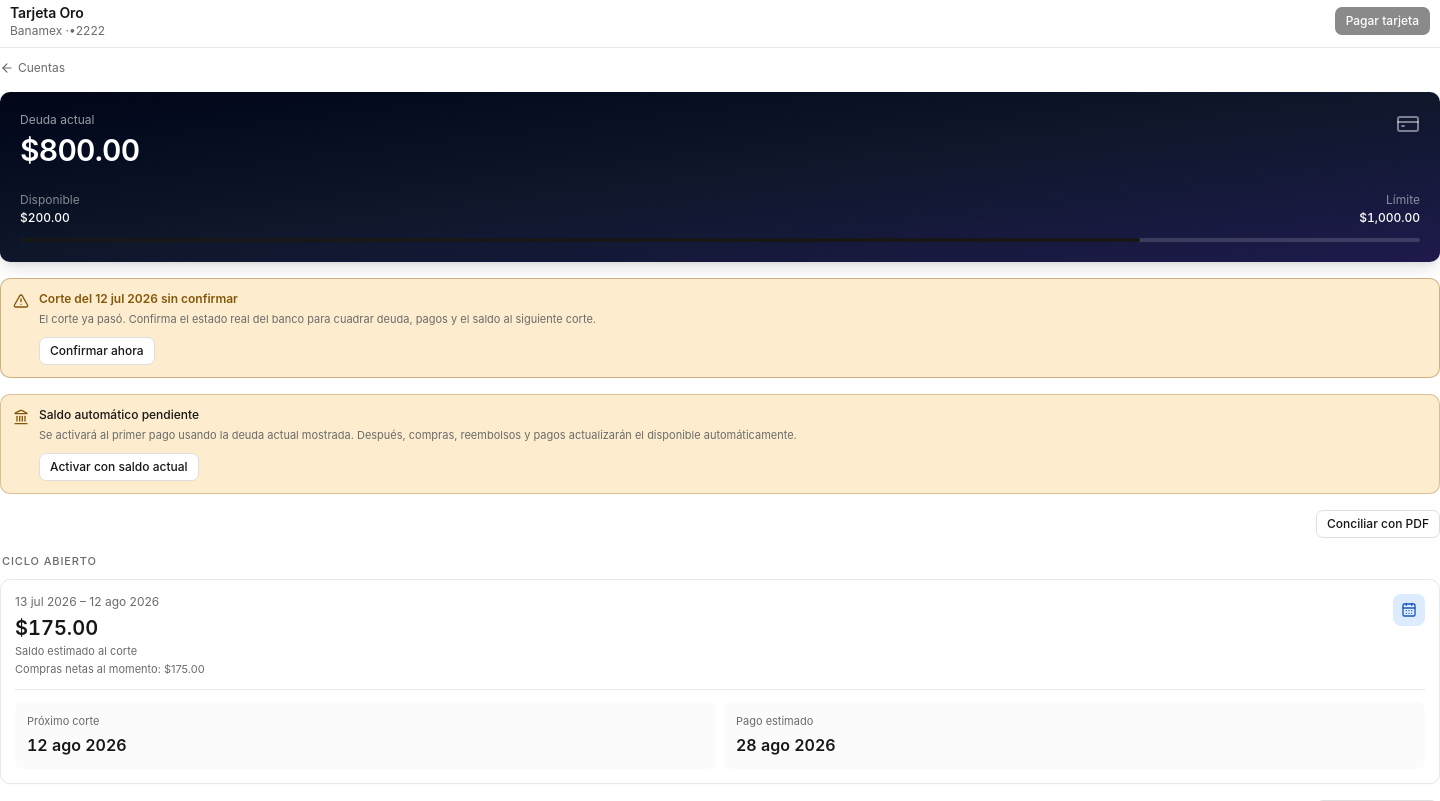
Test: CreditCardDetailPage › warns prominently when the last cut passed without confirmation
Check: the text "Corte del 12 jul 2026 sin confirmar" is shown, box [39,291,238,306]
Click the button "Confirmar ahora" at [97, 351], box [39,337,155,365]
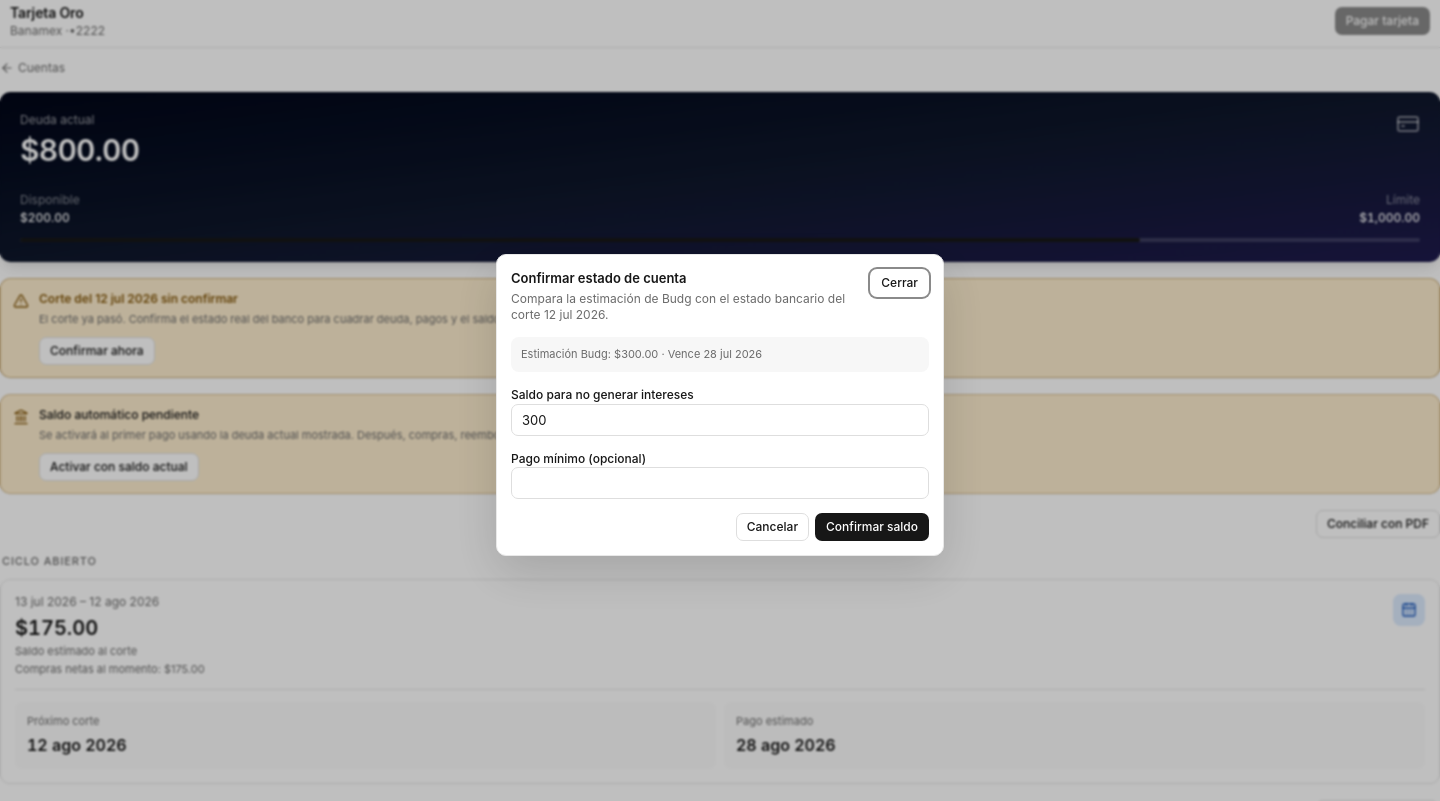
Check: the dialog "Confirmar estado de cuenta" is shown, box [496,254,944,556]
